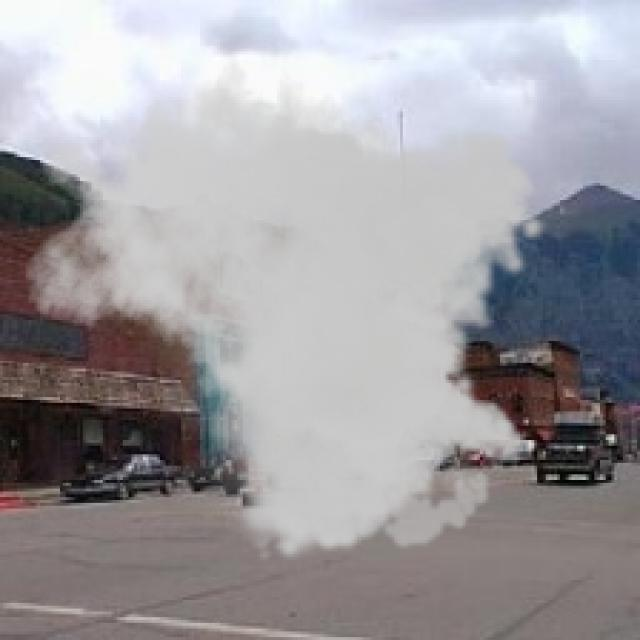Smoke: (22, 37, 548, 563)
